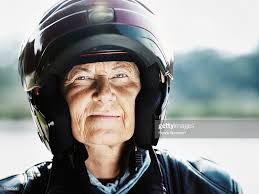com_capacete: (4, 1, 182, 161)
